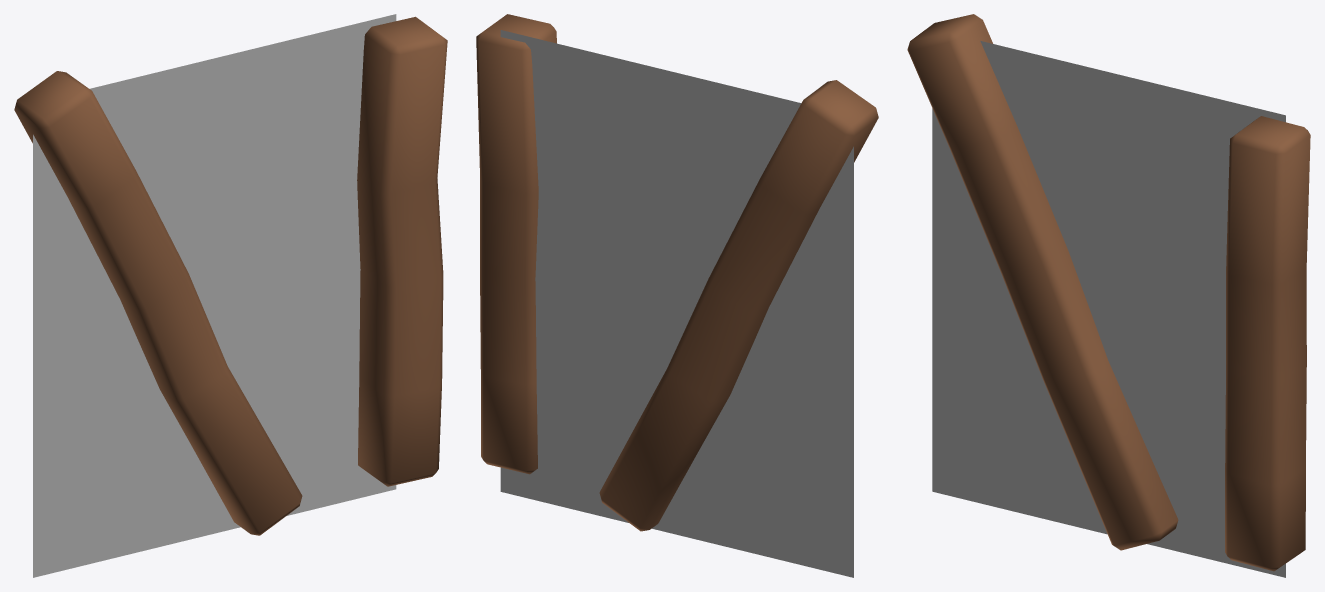
The model's file is house plaster wall 1.fbx.
3 views of the same model, side by side, from view 1: azimuth 30°, elevation 25°; view 2: azimuth 150°, elevation 25°; view 3: azimuth 330°, elevation 25° (orthographic). The views are drawn at different scales.
Parts seen in each view (by area): view 1: house plaster wall 1; view 2: house plaster wall 1; view 3: house plaster wall 1.
Boxes of the visible parts, left/top/right/bottom form: house plaster wall 1: left=14, top=14, right=447, bottom=577; house plaster wall 1: left=476, top=14, right=878, bottom=577; house plaster wall 1: left=907, top=14, right=1310, bottom=577.
Bounding box in the file's own units: 219 × 259 × 43.28.
